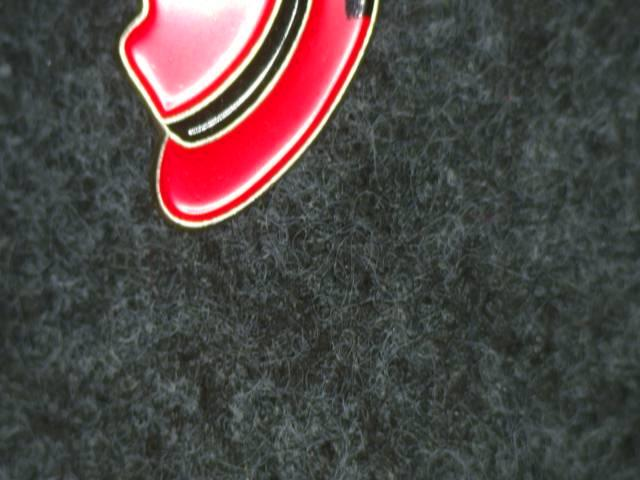Red-Hat: (107, 0, 406, 270)
Scratch: (336, 0, 391, 32)
